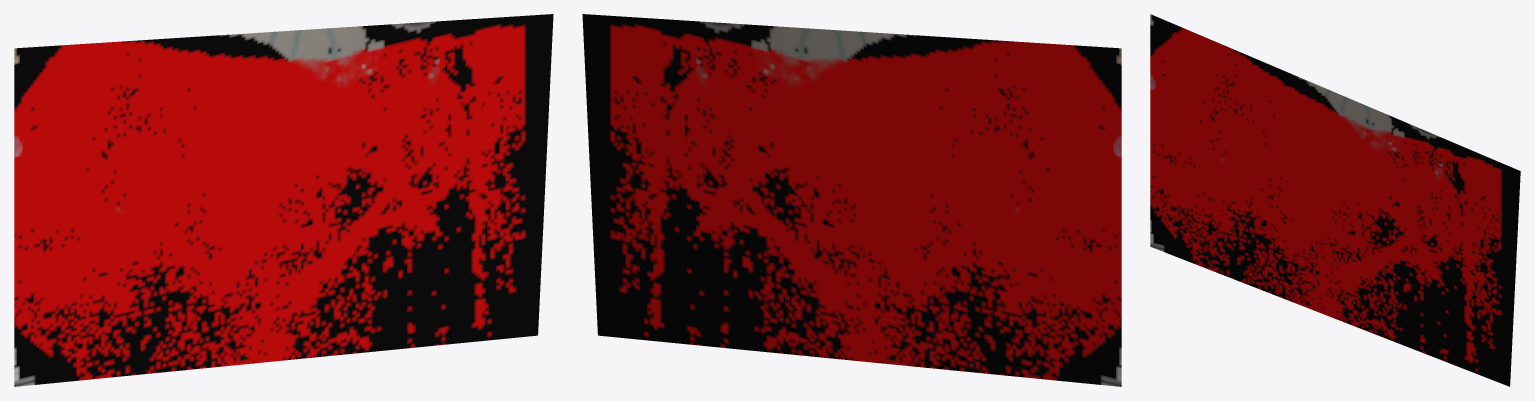
The model's file is graffiti_5.FBX.
3 views of the same model, side by side, from view 1: azimuth 30°, elevation 25°; view 2: azimuth 150°, elevation 25°; view 3: azimuth 330°, elevation 25° (orthographic). The views are drawn at different scales.
Parts seen in each view (by area): view 1: graffiti_5; view 2: graffiti_5; view 3: graffiti_5.
Boxes of the visible parts, x1,y1,x2,y2 form: graffiti_5: (14, 14, 553, 386); graffiti_5: (582, 14, 1121, 386); graffiti_5: (1150, 14, 1520, 386).
Size of the model in its own units: 52.81 by 38.84 by 1.09e-05.
